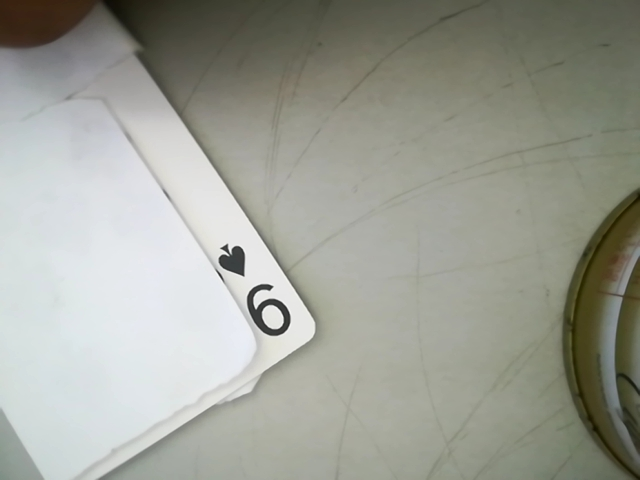ht 9: (208, 227, 294, 356)
